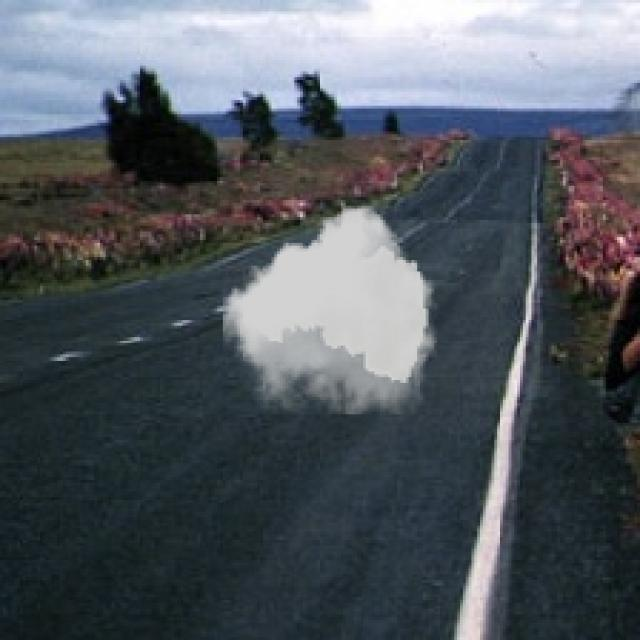smoke: (223, 206, 437, 414)
